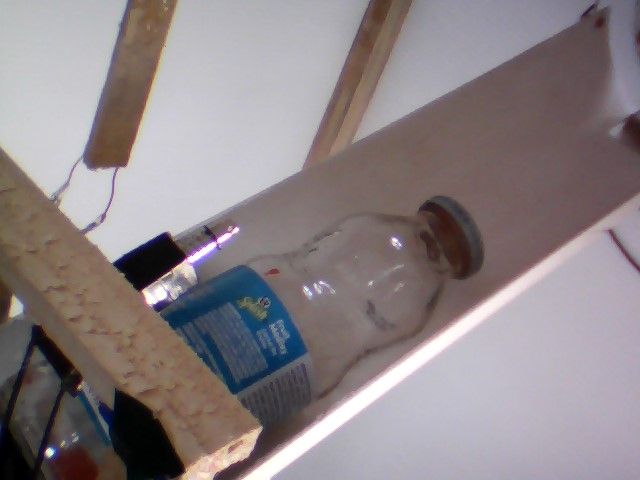vidrio: (191, 191, 495, 436)
